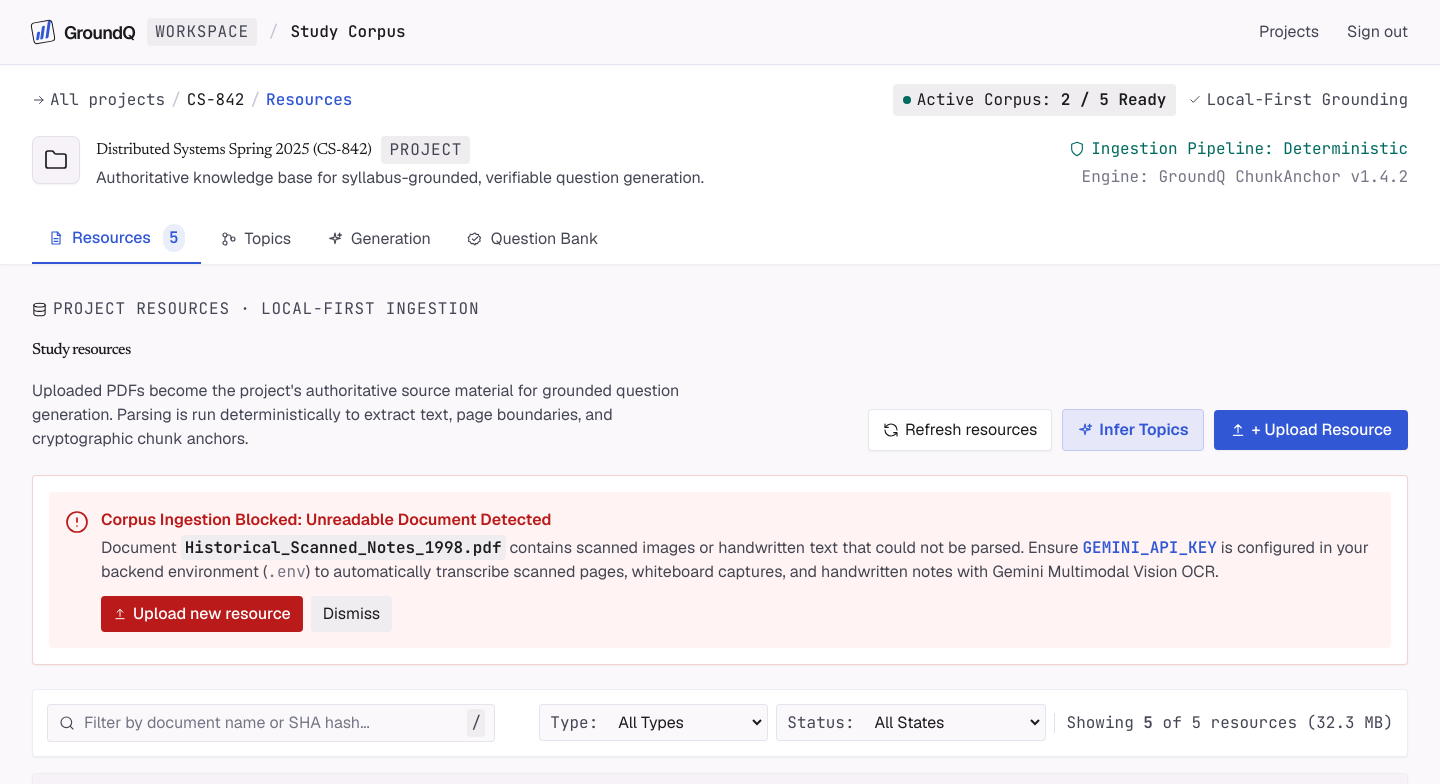
Test case: ProjectResourcesPage › opens and closes the upload dialog
Click the button "+ Upload Resource" at (1311, 430), box top-left (1214, 410), bottom-right (1408, 450)
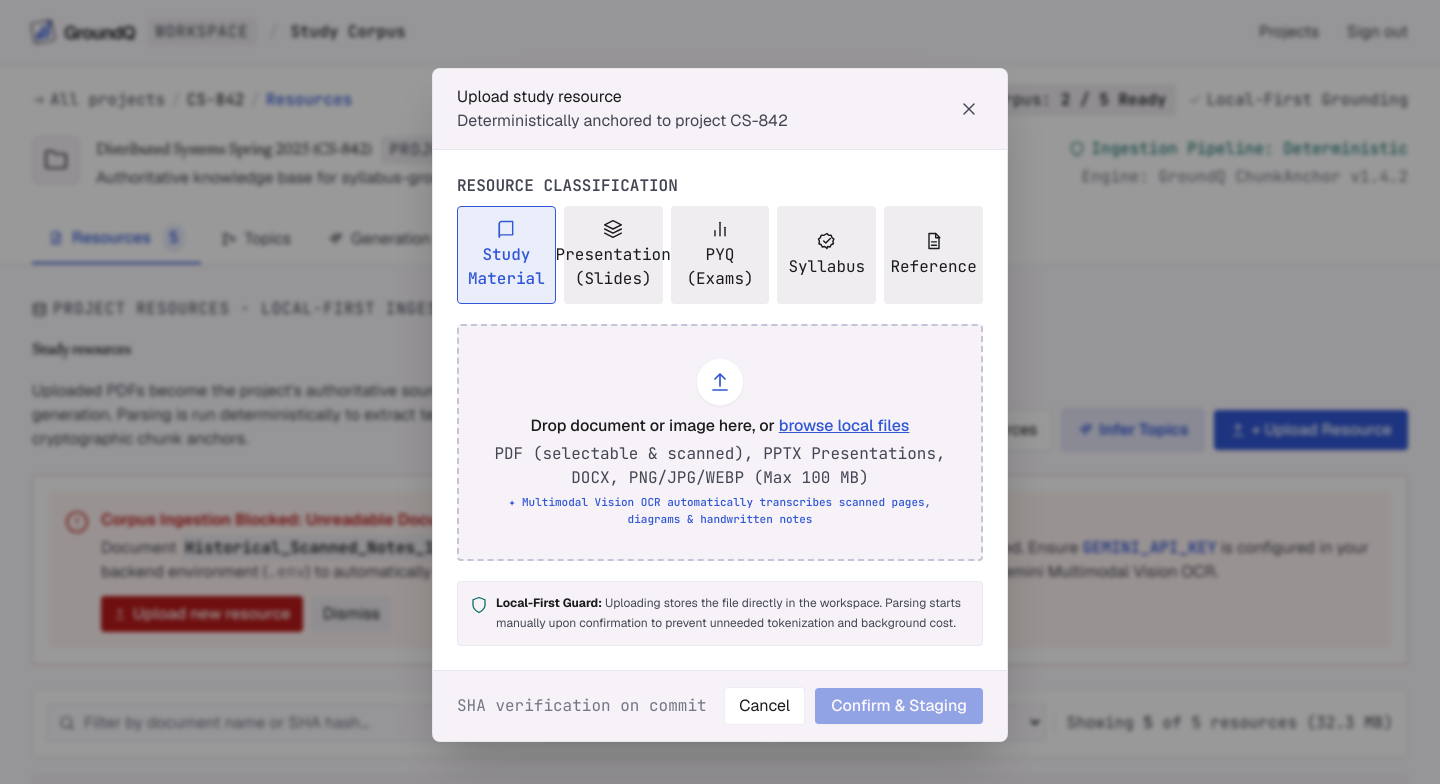
Result: the heading "Upload study resource" is shown at top-left (457, 86), bottom-right (622, 107)
Result: the text "PDF (selectable & scanned), PPTX Presentations, DOCX, PNG/JPG/WEBP" is shown at top-left (494, 443), bottom-right (946, 488)
Result: the text "Presentation (Slides)" is shown at top-left (556, 243), bottom-right (671, 291)
Click the button named "Close upload modal" at (969, 109), box top-left (955, 95), bottom-right (983, 123)
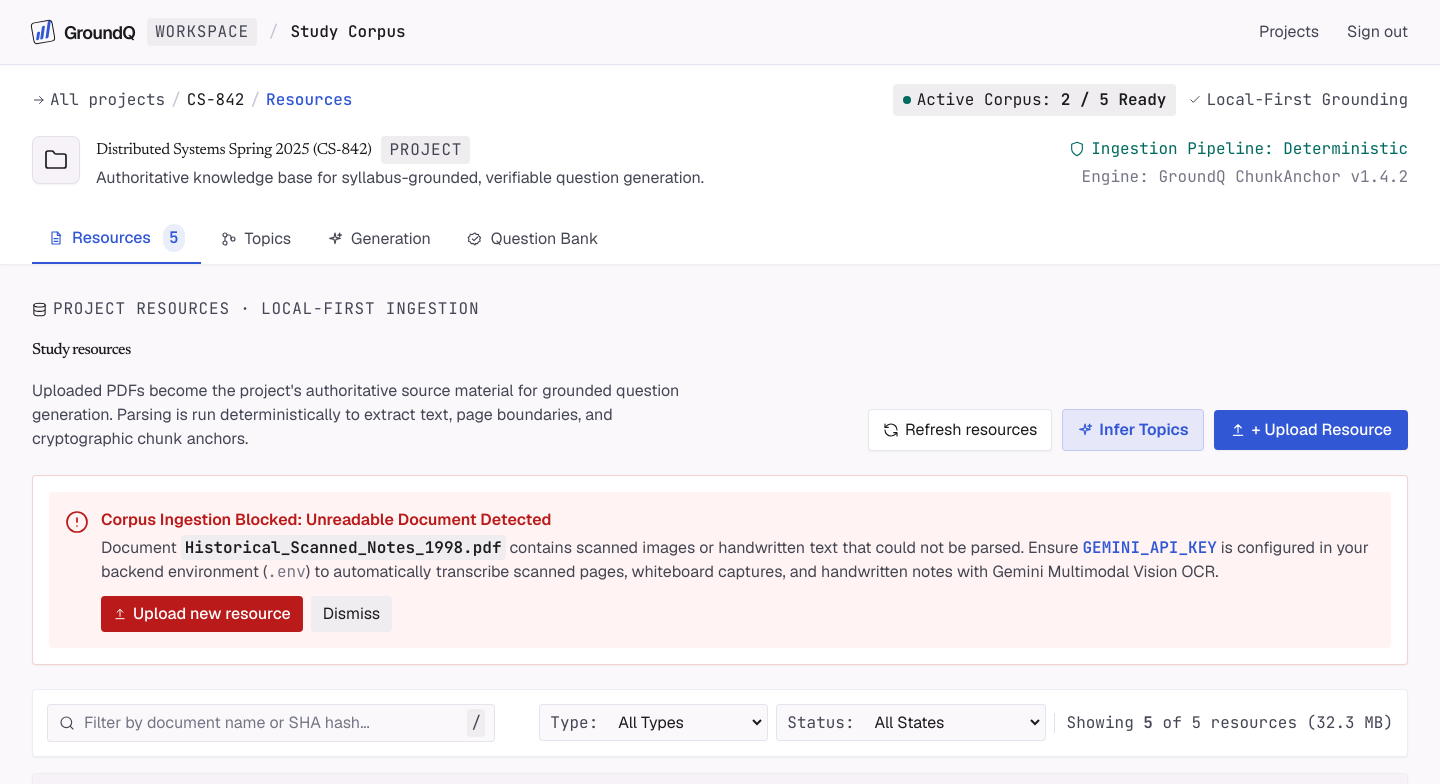
Result: the heading "Upload study resource" is gone
